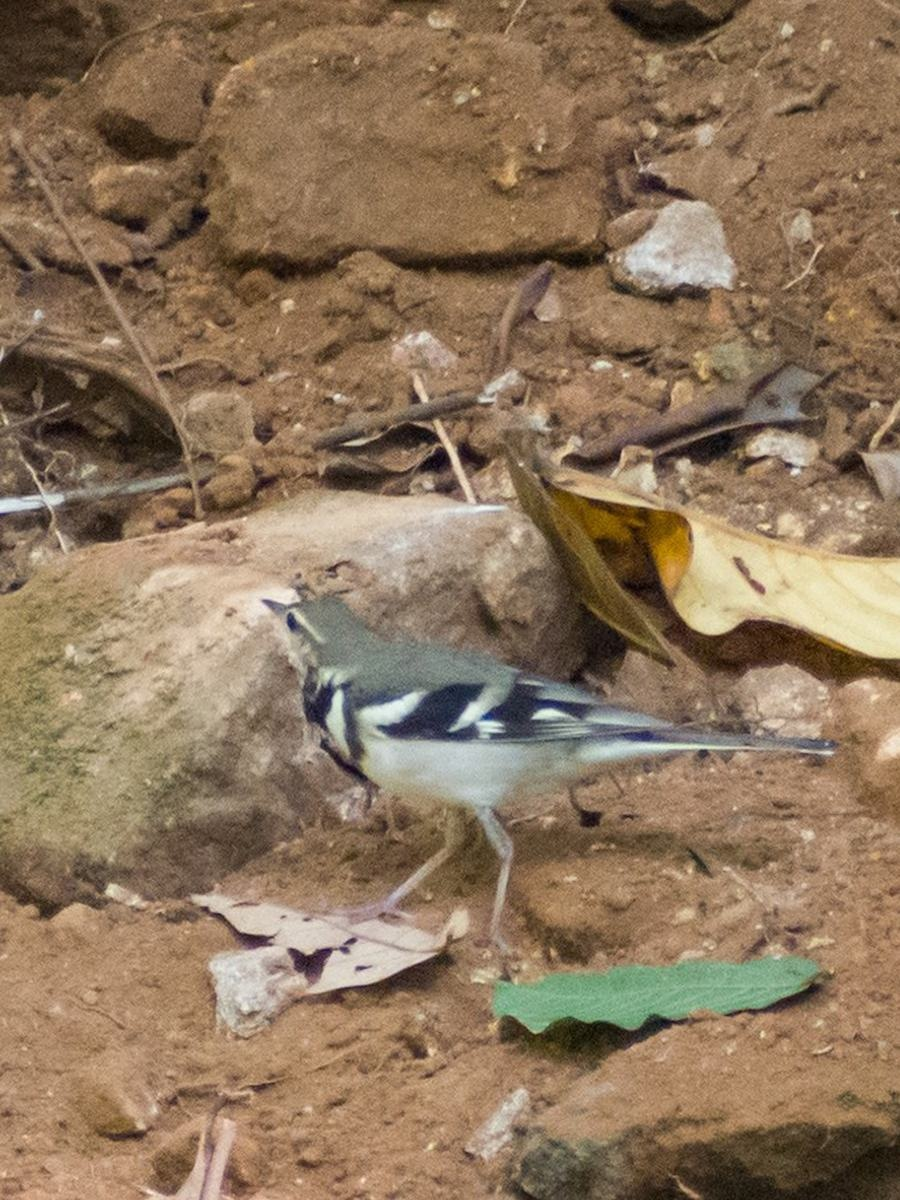wagtail: (253, 554, 843, 917)
